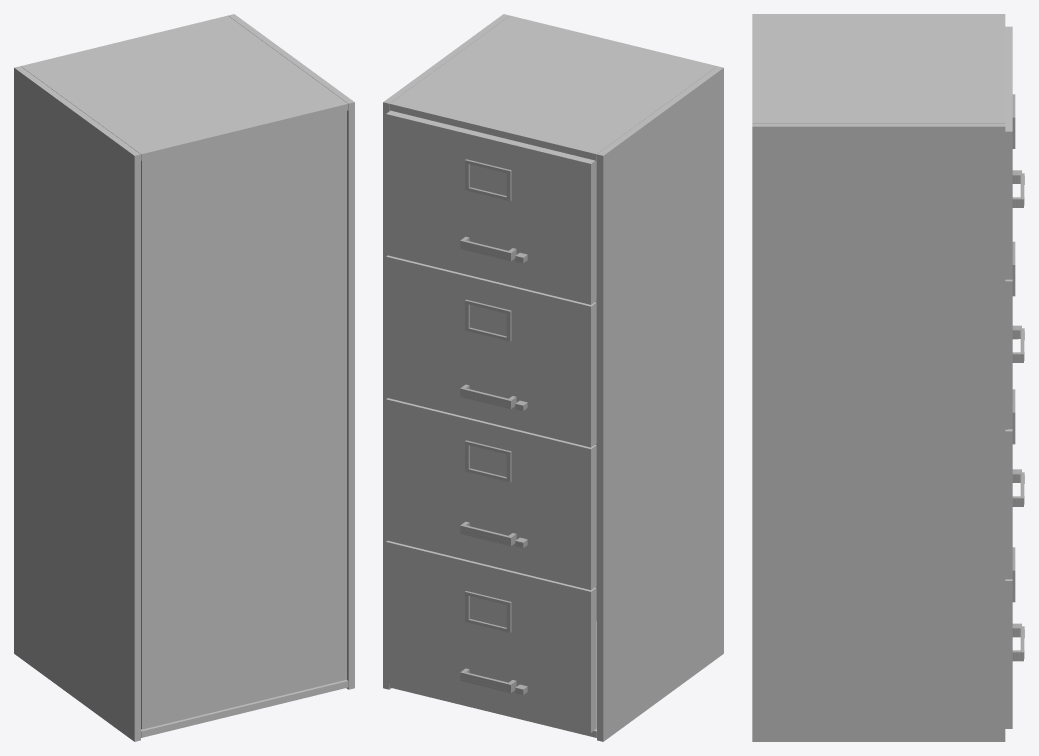
File: OfficeFileCabinet_01.DAE
3 renders of one model, left to right at view 1: azimuth 30°, elevation 25°; view 2: azimuth 150°, elevation 25°; view 3: azimuth 270°, elevation 25°, orthographic. The views are drawn at different scales.
Visible parts, largest first — view 1: OfficeFileCabinetOne300; view 2: OfficeFileCabinetOne300; view 3: OfficeFileCabinetOne300.
Boxes of the visible parts, x1,y1,x2,y2 form: OfficeFileCabinetOne300: (14, 14, 354, 741); OfficeFileCabinetOne300: (383, 14, 723, 741); OfficeFileCabinetOne300: (752, 14, 1024, 741).
Size of what is drawn, in the model's own units: 2.14 by 2.18 by 5.45.
